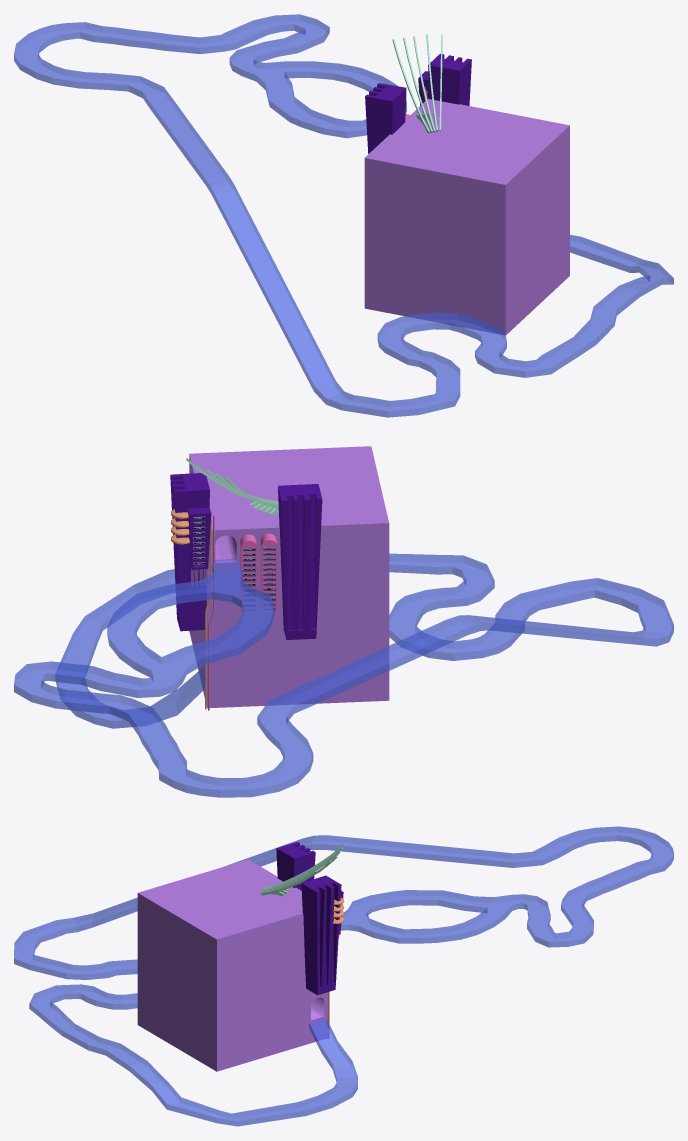
File: Terreno4.fbx
3 renders of one model, top to bottom at view 1: azimuth 30°, elevation 25°; view 2: azimuth 150°, elevation 25°; view 3: azimuth 270°, elevation 25°, orthographic. The views are drawn at different scales.
Visible parts, largest first — view 1: Cube.026, Cube, Cube.029, Cube.027; view 2: Cube, Cube.026, Cube.029, Cube.027, Cube.028, Cylinder.253, Cylinder.252, Plane.528, Plane.527; view 3: Cube.026, Cube, Cube.027, Cube.029.
Boxes of the visible parts, x1,y1,x2,y2 form: Cube.026: [364, 98, 569, 335]; Cube: [14, 14, 673, 417]; Cube.029: [365, 83, 406, 153]; Cube.027: [428, 53, 471, 105]; Cube: [14, 553, 673, 797]; Cube.026: [189, 446, 389, 708]; Cube.029: [278, 484, 322, 639]; Cube.027: [170, 473, 209, 631]; Cube.028: [187, 507, 211, 569]; Cylinder.253: [260, 533, 277, 612]; Cylinder.252: [240, 534, 257, 613]; Plane.528: [263, 547, 275, 610]; Plane.527: [243, 548, 255, 610]; Cube.026: [137, 859, 327, 1071]; Cube: [14, 826, 673, 1126]; Cube.027: [301, 875, 341, 995]; Cube.029: [276, 842, 315, 890].
Bounding box in the file's own units: 1764 × 933 × 2769.
Materials: 7 (1 with a texture image).
